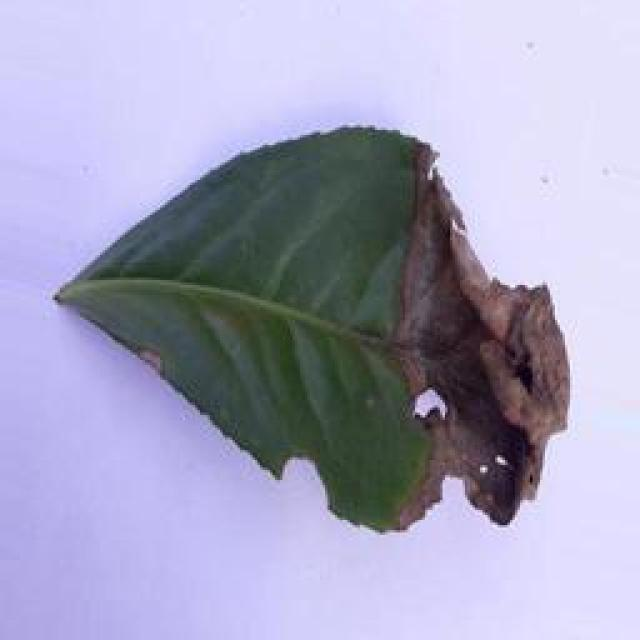Brown Blight: (49, 108, 570, 552)
